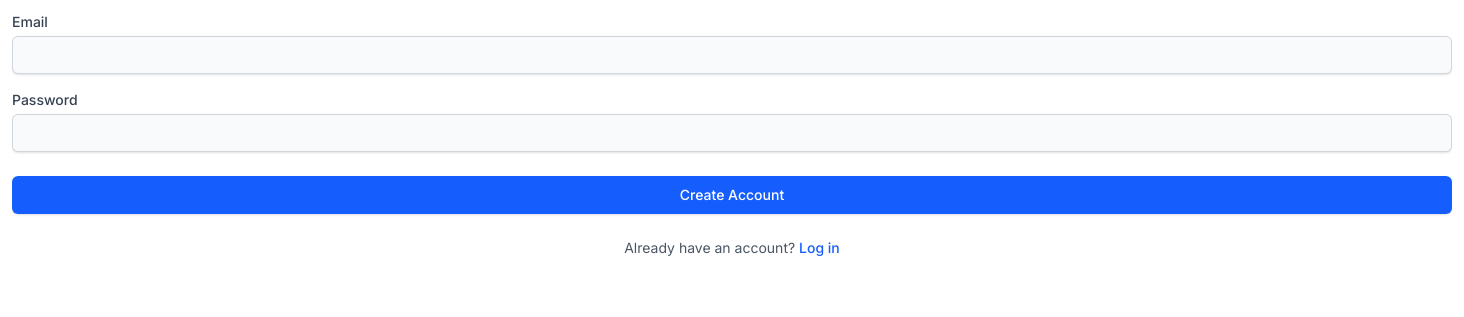
SignUpForm › displays a general error message from the server action
This screenshot has width=1464, height=317.
Type "existing@example.com" into the field labelled "Email" at (732, 55), box [12, 36, 1452, 74]
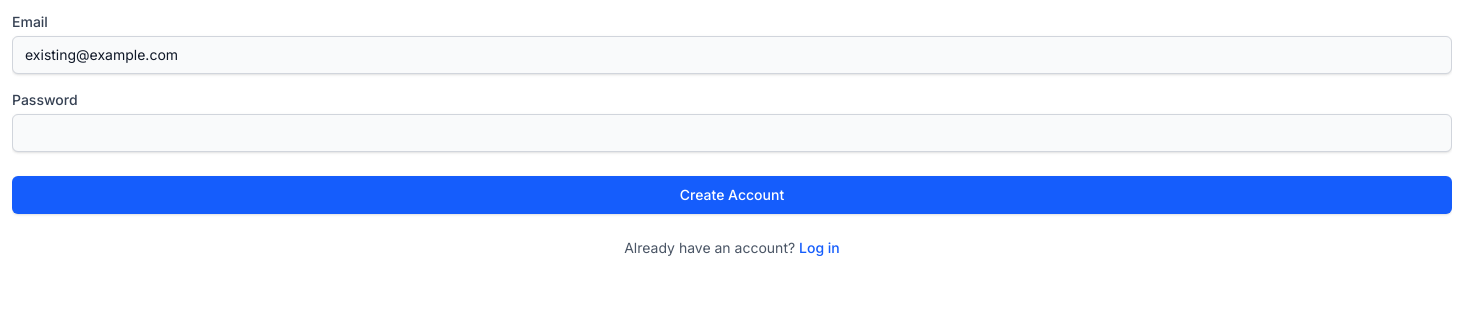
Type "password123" into the password field labelled "Password" at (732, 133), box [12, 114, 1452, 152]
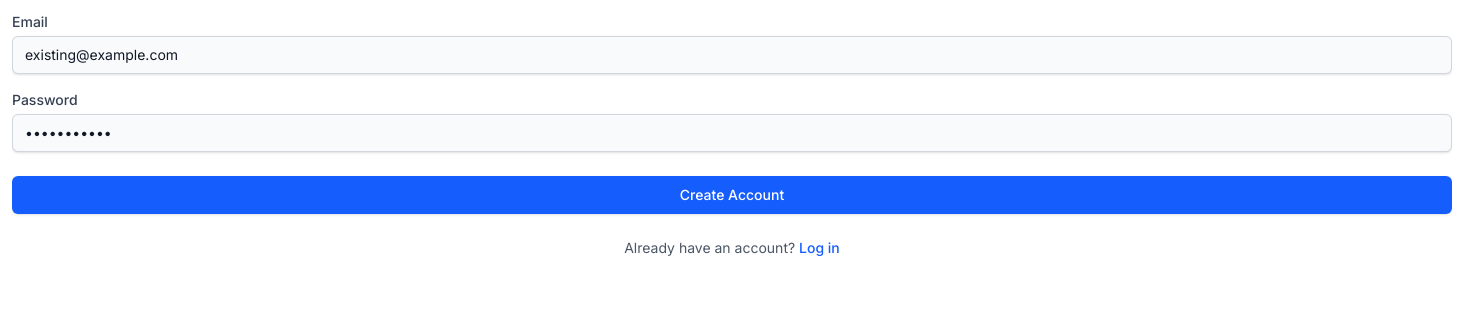
Click the button "Create Account" at (732, 195), box [12, 176, 1452, 214]
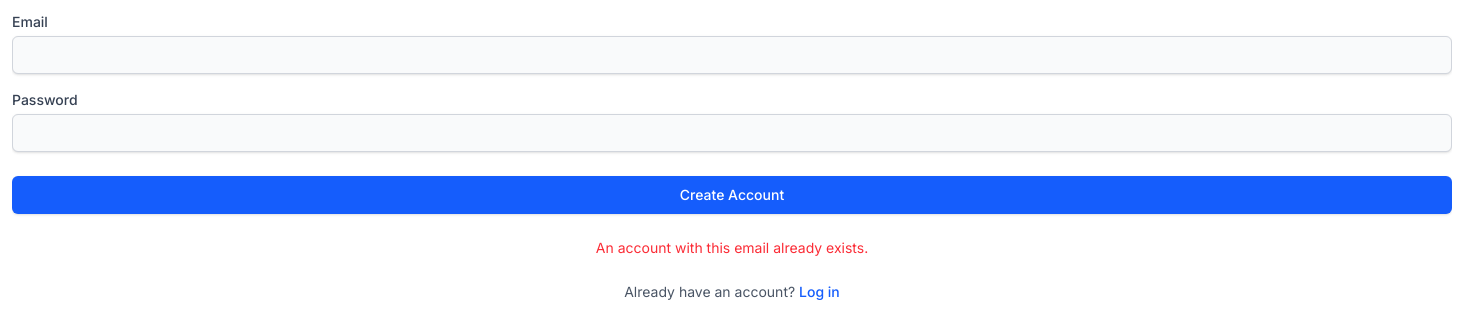
Now the text "An account with this email already exists." is shown, box [596, 239, 868, 256]
